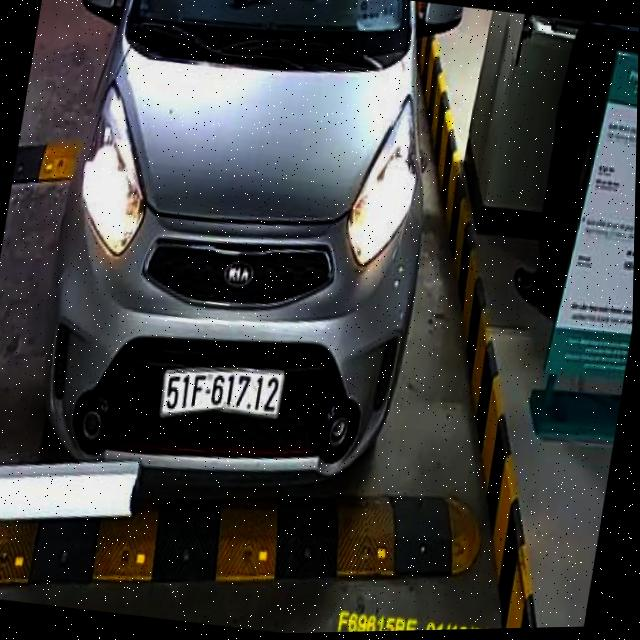car: (1, 0, 471, 515)
plate: (155, 356, 288, 431)
